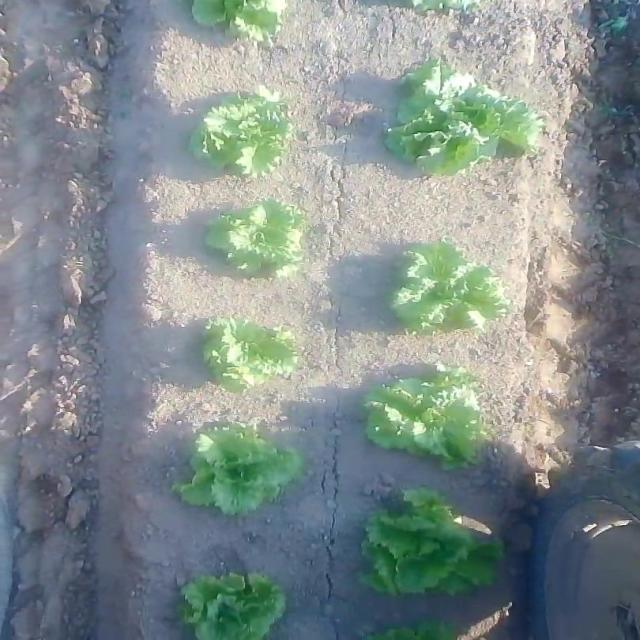Lettuce: (155, 420, 313, 526), (366, 498, 526, 599), (386, 72, 537, 174), (182, 566, 298, 640)
